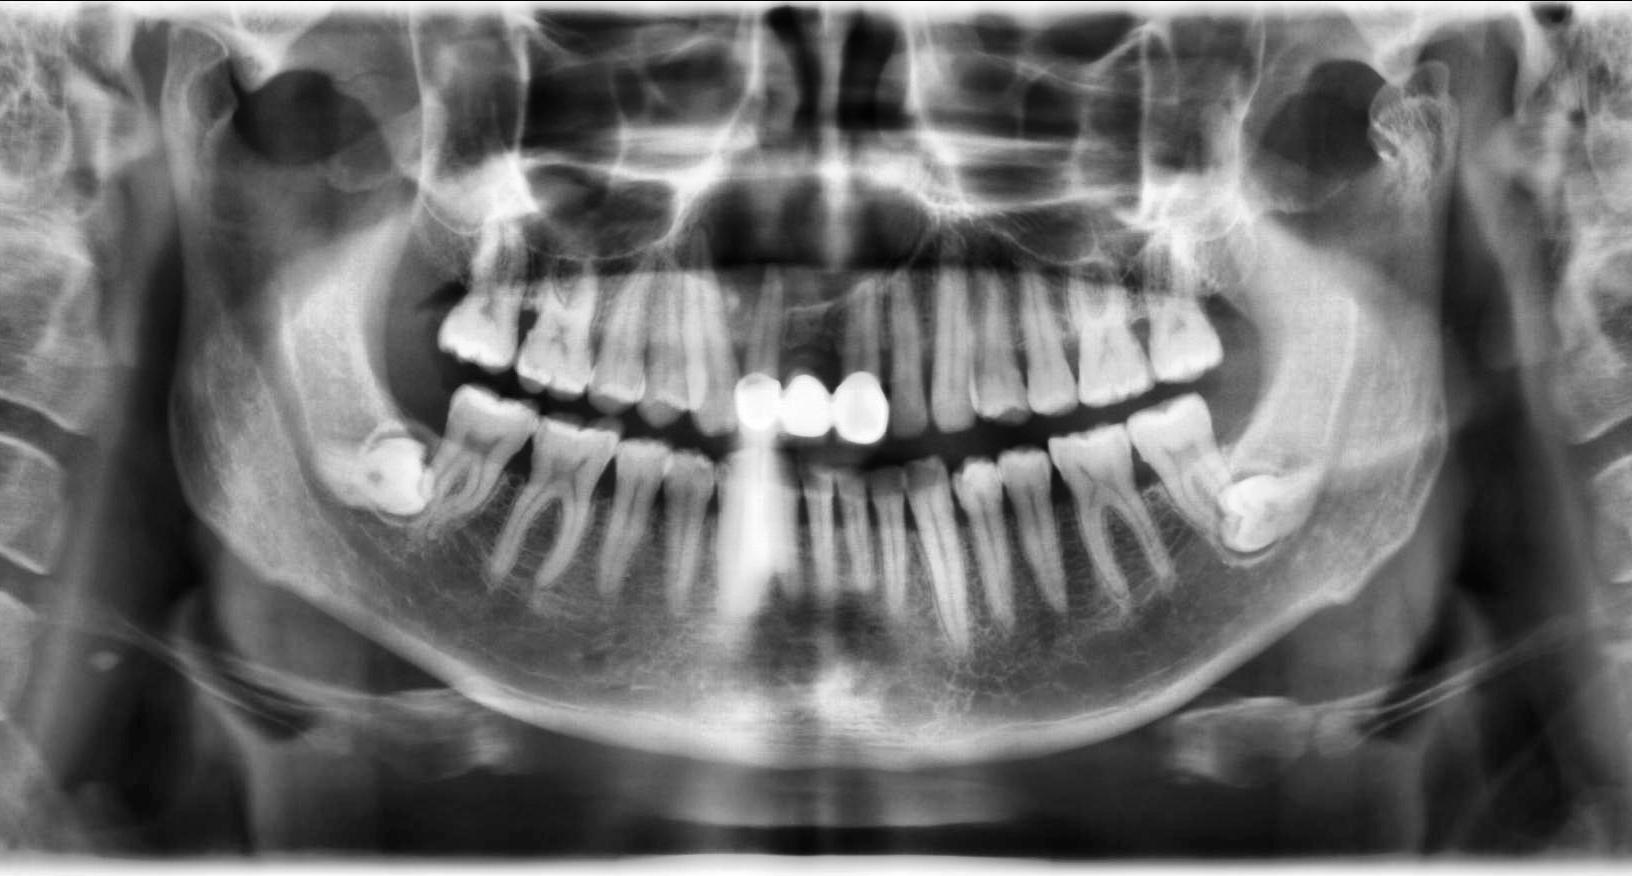radikuler: (668, 173, 931, 310)
